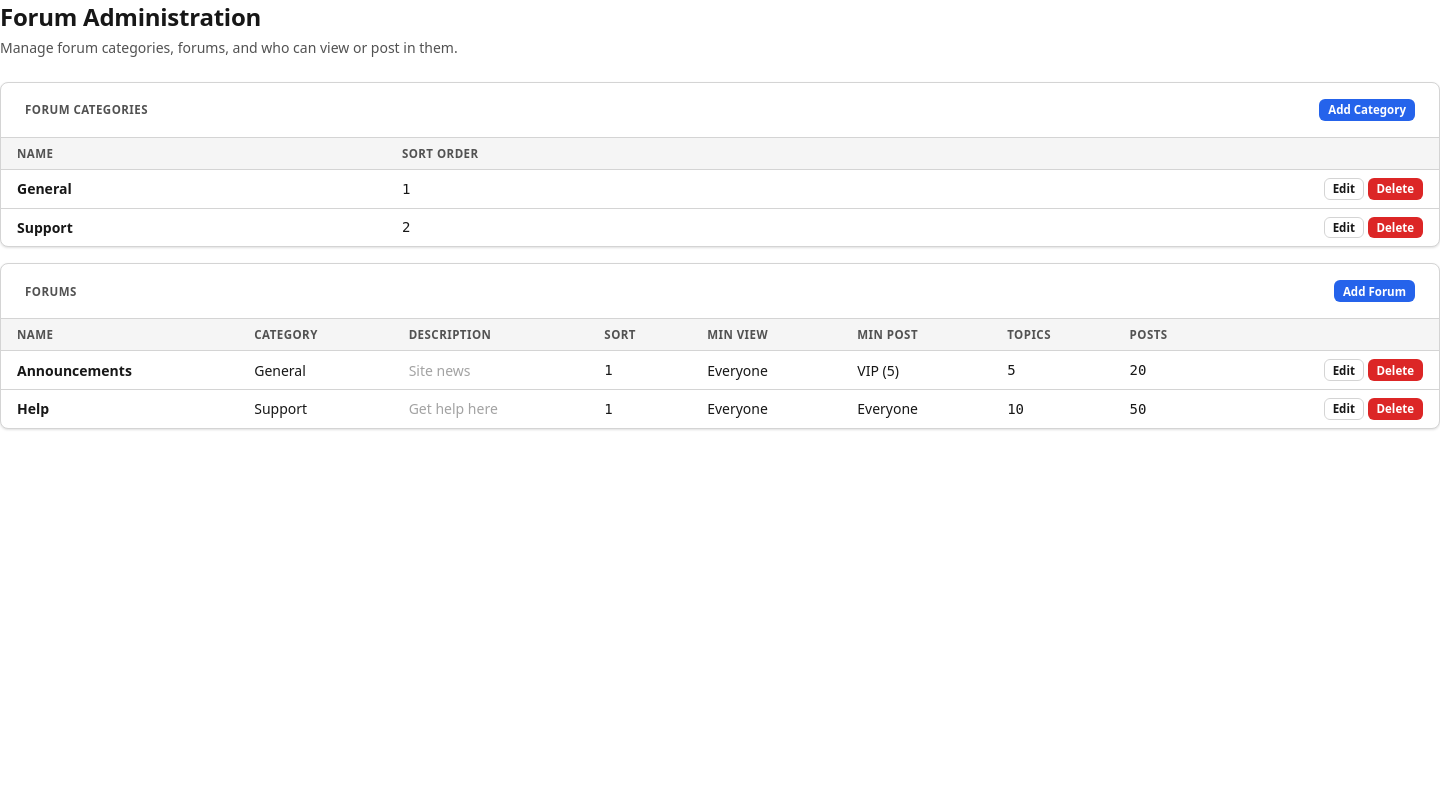
Scenario: AdminForumsPage › opens create category modal
Click the button "Add Category". click: (1367,110)
box: [1319,99,1415,121]
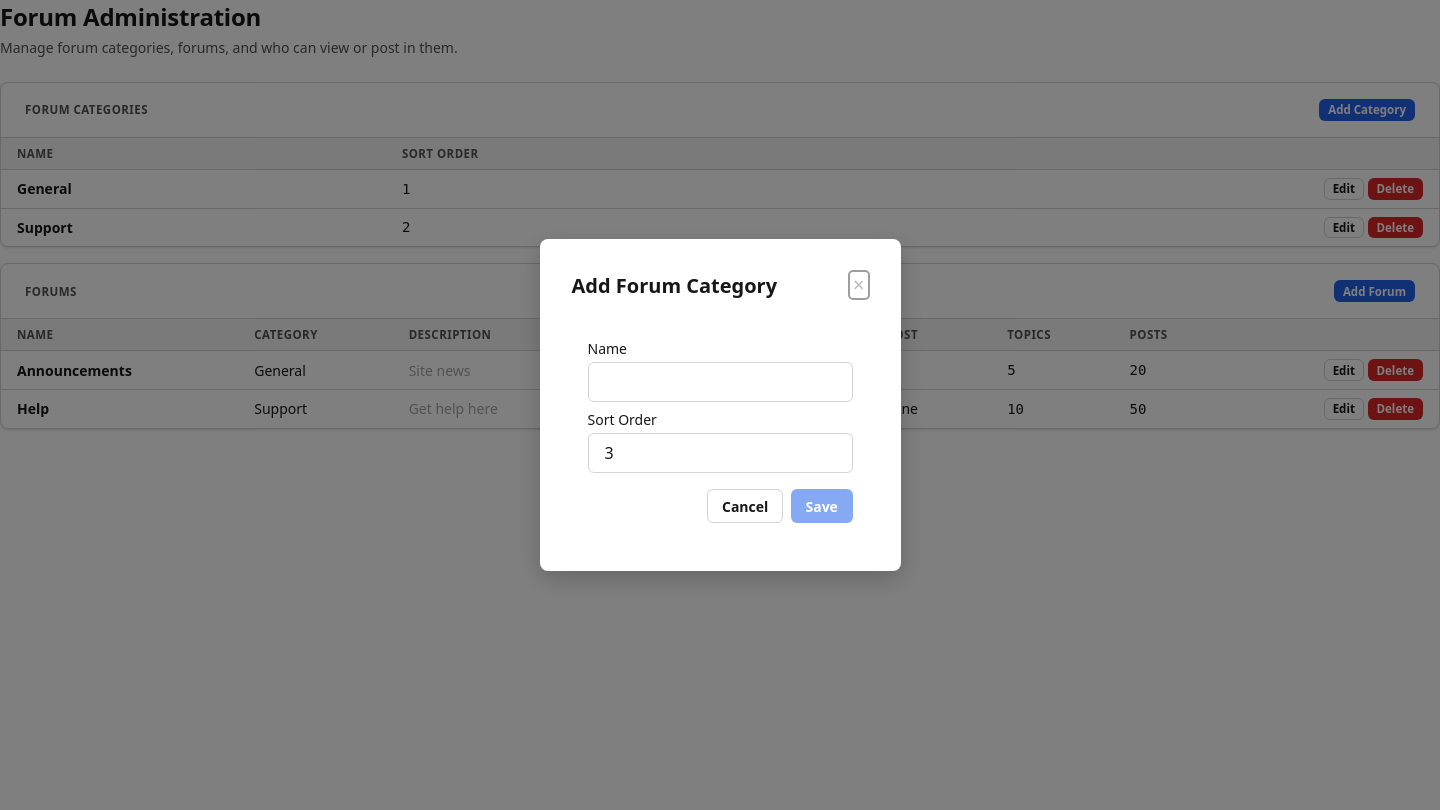
Expected: the dialog is shown
Expected: the heading "Add Forum Category" is shown, [572,272,777,299]
